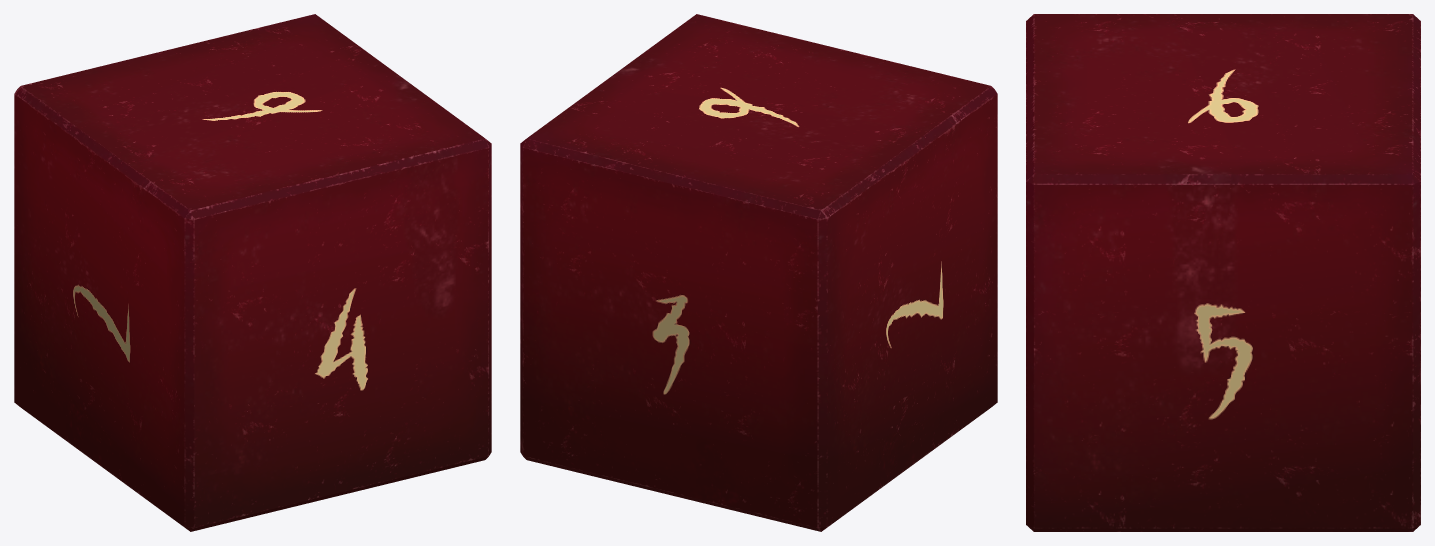
The model's file is DragonGem_d6.glb.
The picture shows the model from 3 angles, left to right: view 1: azimuth 30°, elevation 25°; view 2: azimuth 150°, elevation 25°; view 3: azimuth 270°, elevation 25°; orthographic projection. The views are drawn at different scales.
Visible parts, largest first — view 1: dragongem_d6; view 2: dragongem_d6; view 3: dragongem_d6.
Part boxes in pixels (x1,y1,x2,y2): dragongem_d6: (14, 14, 491, 531); dragongem_d6: (520, 14, 997, 531); dragongem_d6: (1026, 14, 1420, 531).
Size of the model in its own units: 104 by 104 by 104.
1 material, 1 textured.
